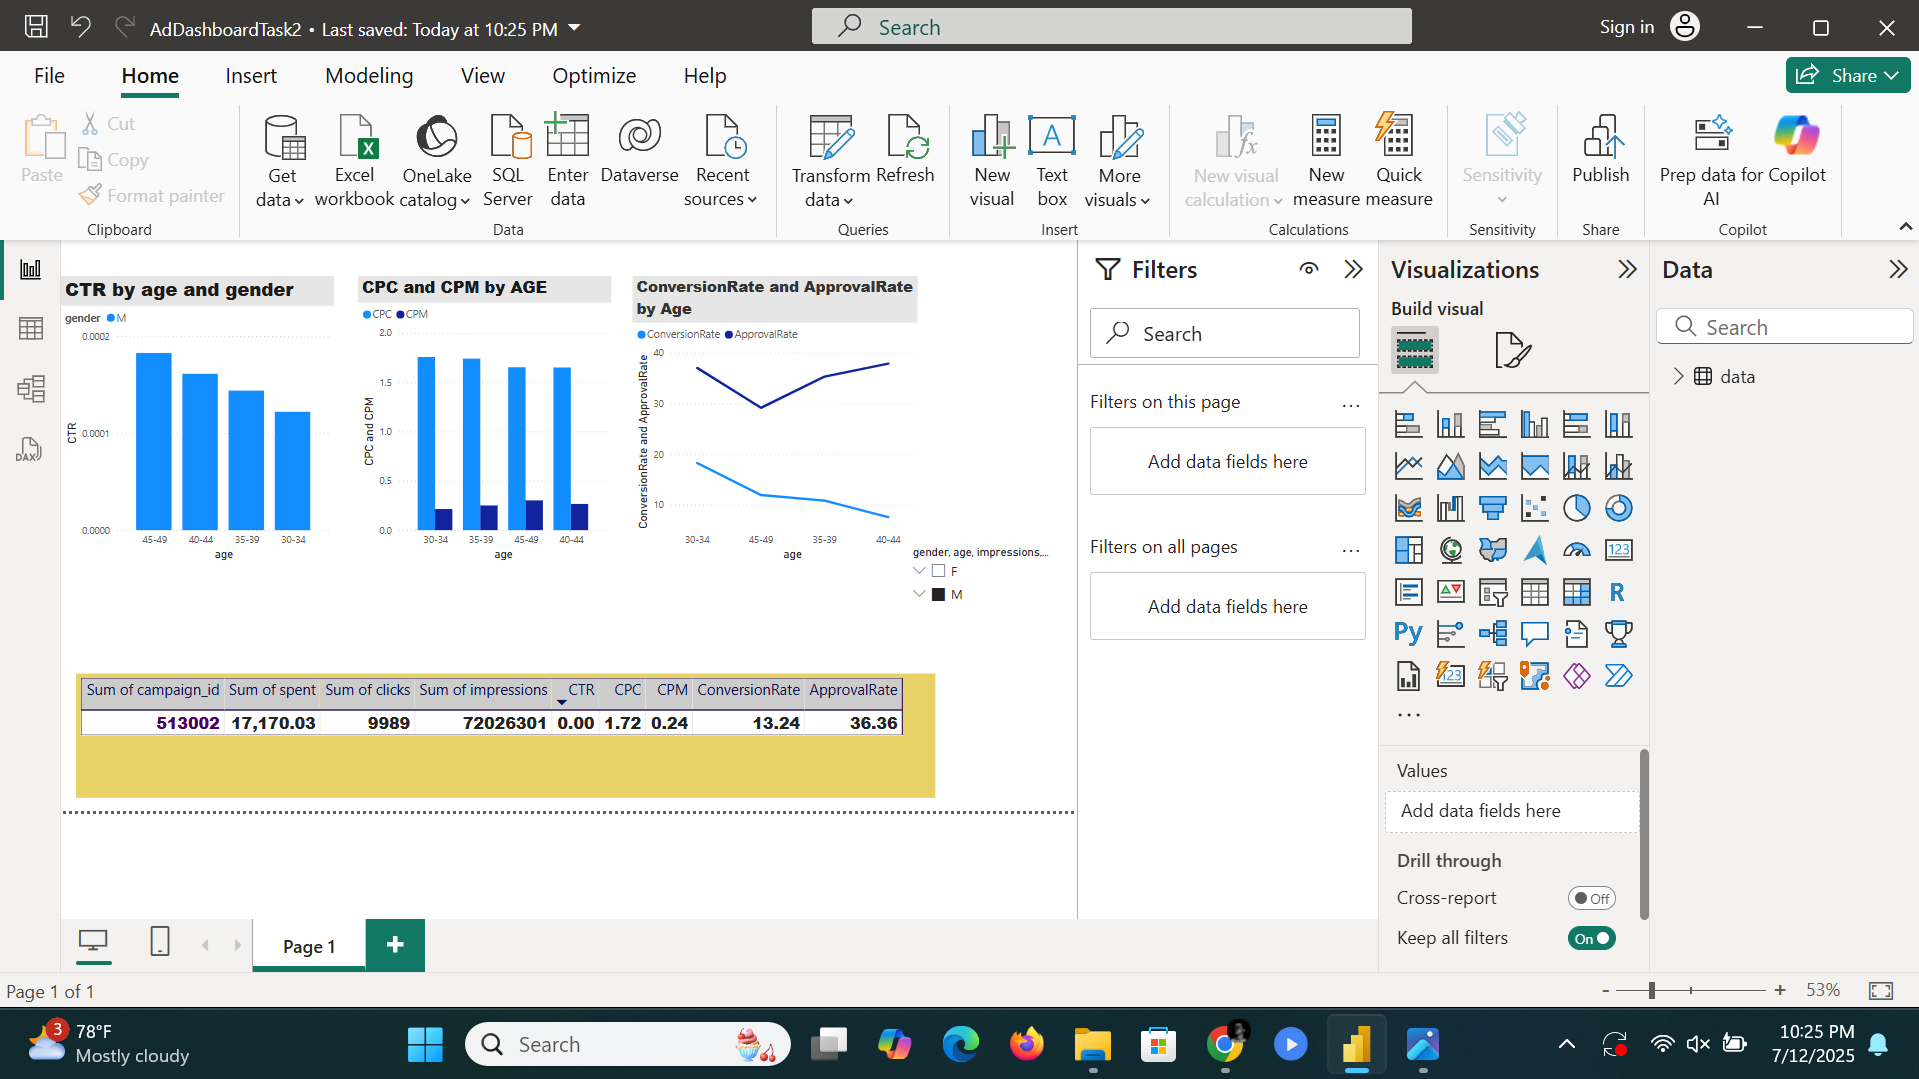

Layout of this report page (visuals, bound fields, positions):
{"tool":"powerbi","page":{"name":"Page 1","canvas":[1280,720],"ordinal":0},"visuals":[{"type":"columnChart","fields":{"Category":["data.age"],"Series":["data.gender"],"Y":["data.CTR"]},"box":[0,45.4,343.9,362.8],"z":0},{"type":"clusteredColumnChart","title":"CPC and CPM by AGE","fields":{"Category":["data.age"],"Y":["data.CPC","data.CPM"]},"box":[374.2,45.4,319.4,362.8],"z":1000},{"type":"lineChart","title":"ConversionRate and ApprovalRate by Age","fields":{"Category":["data.age"],"Y":["data.ConversionRate","data.ApprovalRate"]},"box":[720,45.4,359.1,362.8],"z":2000},{"type":"tableEx","fields":{"Values":["Sum(data.campaign_id)","Sum(data.spent)","Sum(data.clicks)","Sum(data.impressions)","data.CTR","data.CPC","data.CPM","data.ConversionRate","data.ApprovalRate"]},"box":[18.9,546.1,1082.8,156.9],"z":3000},{"type":"slicer","fields":{"Values":["data.gender","data.age","data.impressions","data.clicks"]},"box":[1060.2,379.8,206,143.6],"z":4000}]}

Visuals, with their boxes on the page's 1280x720 design canvas (x1, y1, x2, y2). These are canvas units, not pixel positions in the 1919x1079 screenshot, which may show the page scaled, cropped or inside an application window:
columnChart - data.age x data.gender: bbox=[0, 45, 344, 408]
"CPC and CPM by AGE" clusteredColumnChart: bbox=[374, 45, 694, 408]
"ConversionRate and ApprovalRate by Age" lineChart: bbox=[720, 45, 1079, 408]
tableEx - Sum(data.campaign_id) x Sum(data.spent): bbox=[19, 546, 1102, 703]
slicer - data.gender x data.age: bbox=[1060, 380, 1266, 523]
